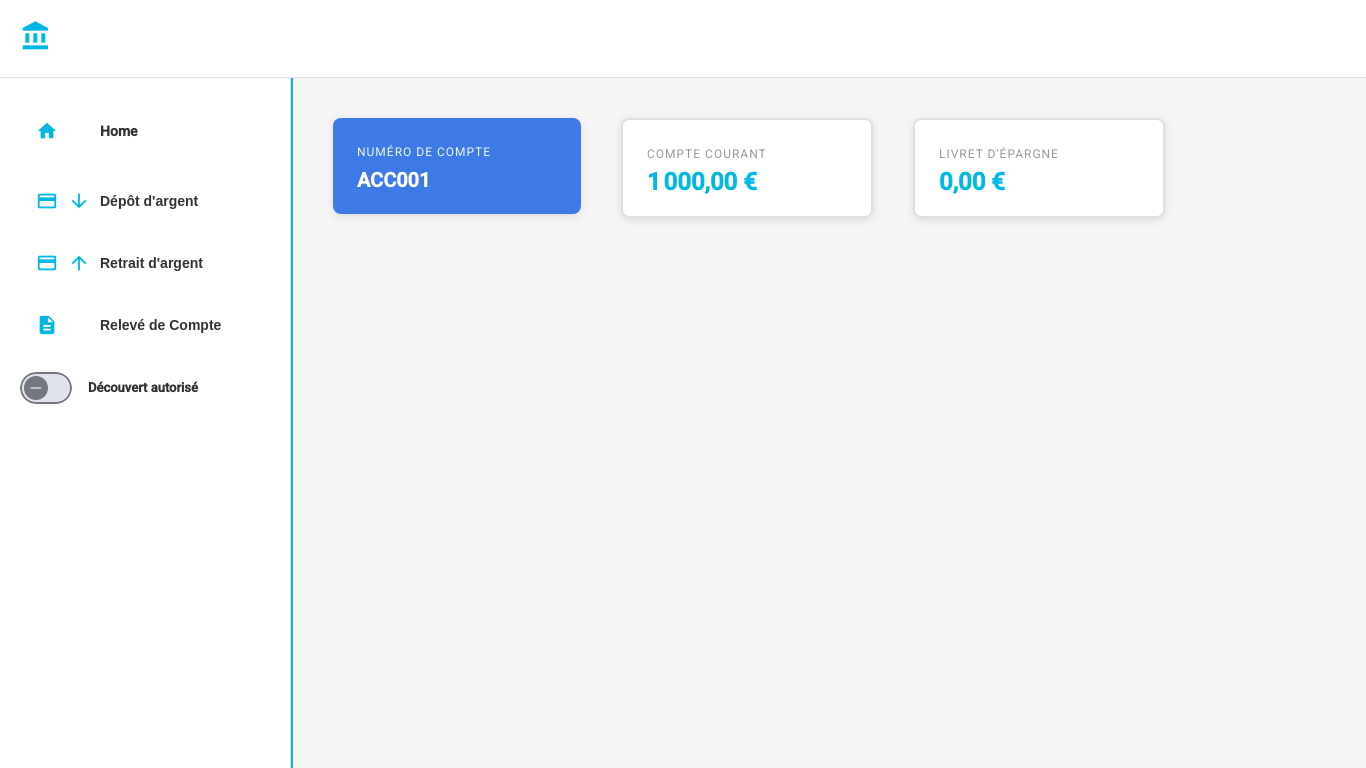
Scenario: Account dashboard flows › performs a cash withdrawal
Click the button "Retrait d'argent" at {"x": 145, "y": 263}, box x1=20 y1=240 x2=270 y2=286
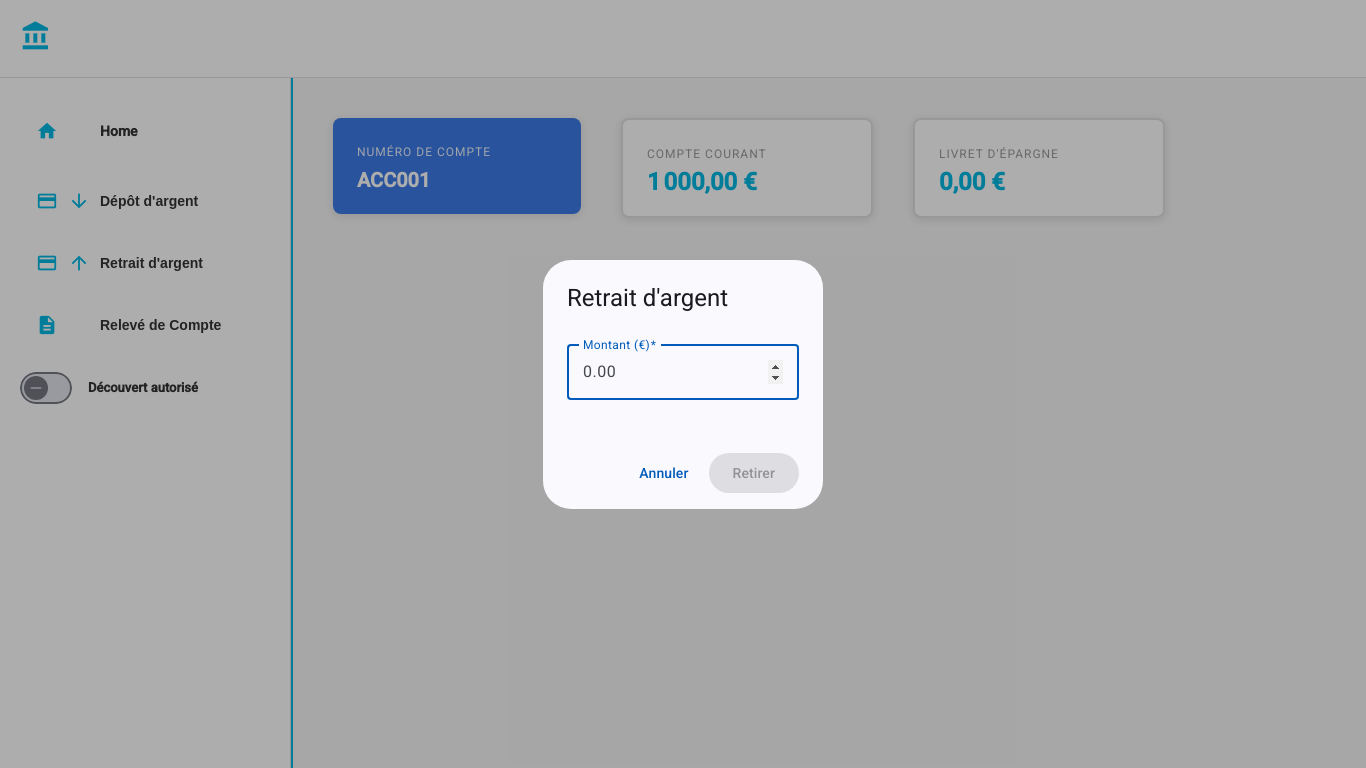
Result: the dialog is shown at x1=543 y1=260 x2=823 y2=509
Type "300" into the number field labelled "Montant (€)" at {"x": 683, "y": 372}, box x1=583 y1=360 x2=783 y2=384
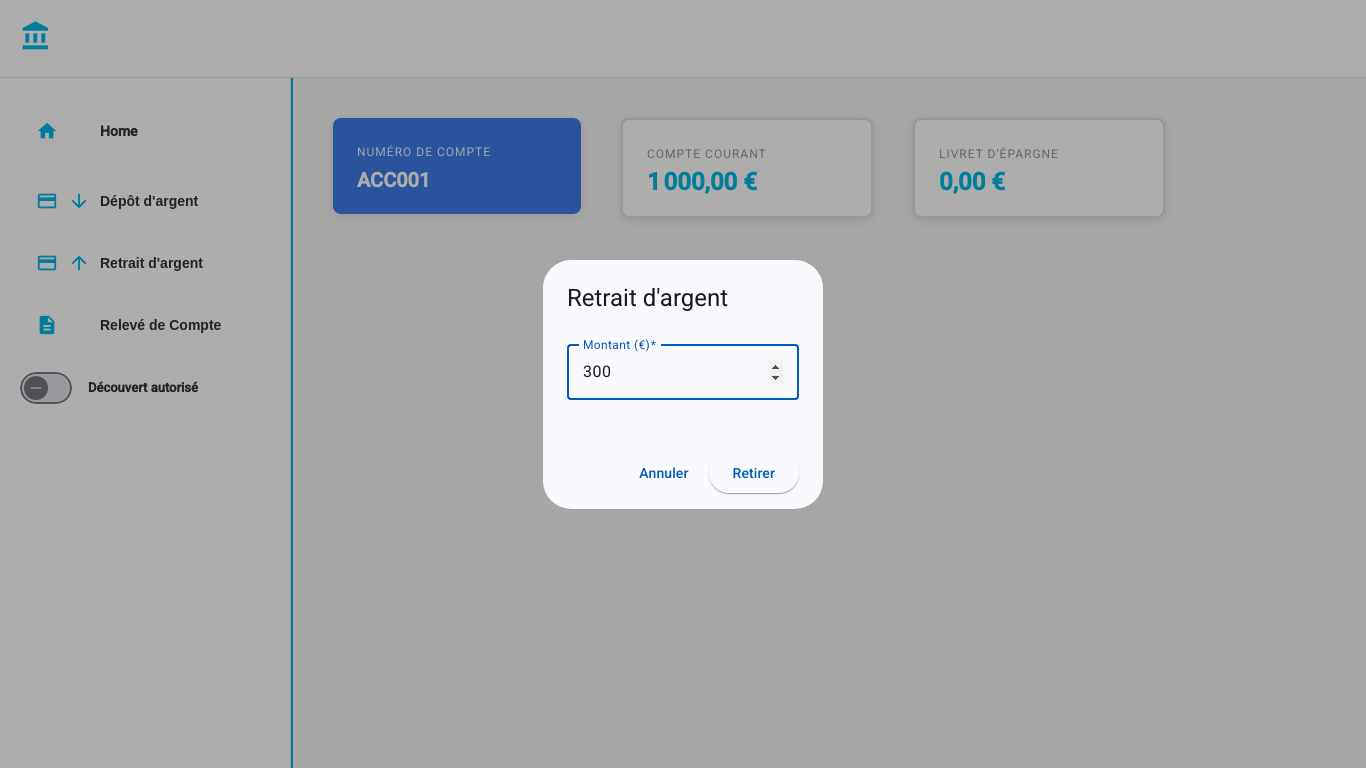
Click the button "Retirer" at {"x": 755, "y": 473}, box x1=709 y1=453 x2=800 y2=493
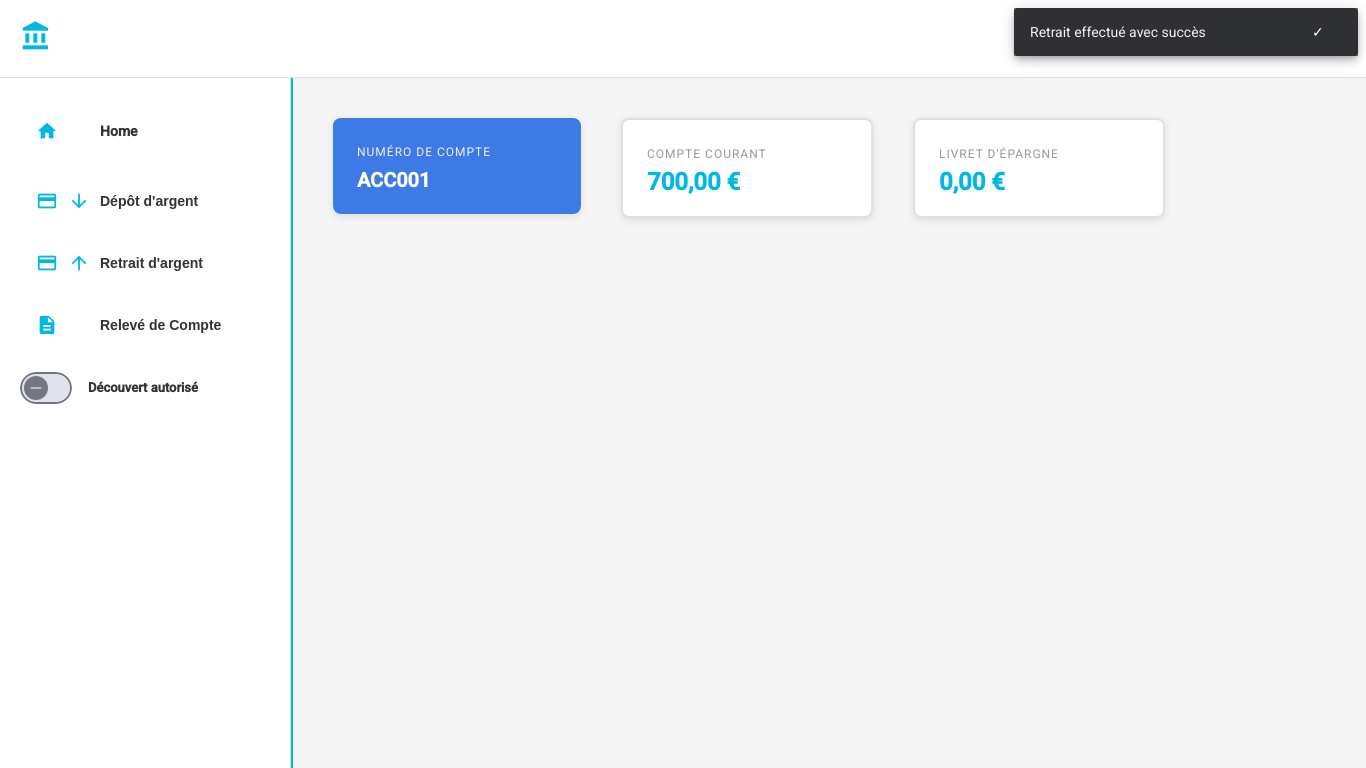
Result: the text with class "info-value" shows "700" at x1=647 y1=168 x2=740 y2=196
